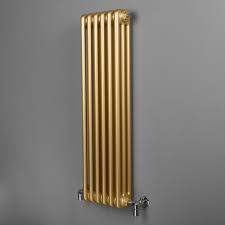Radiator: (77, 7, 139, 213)
